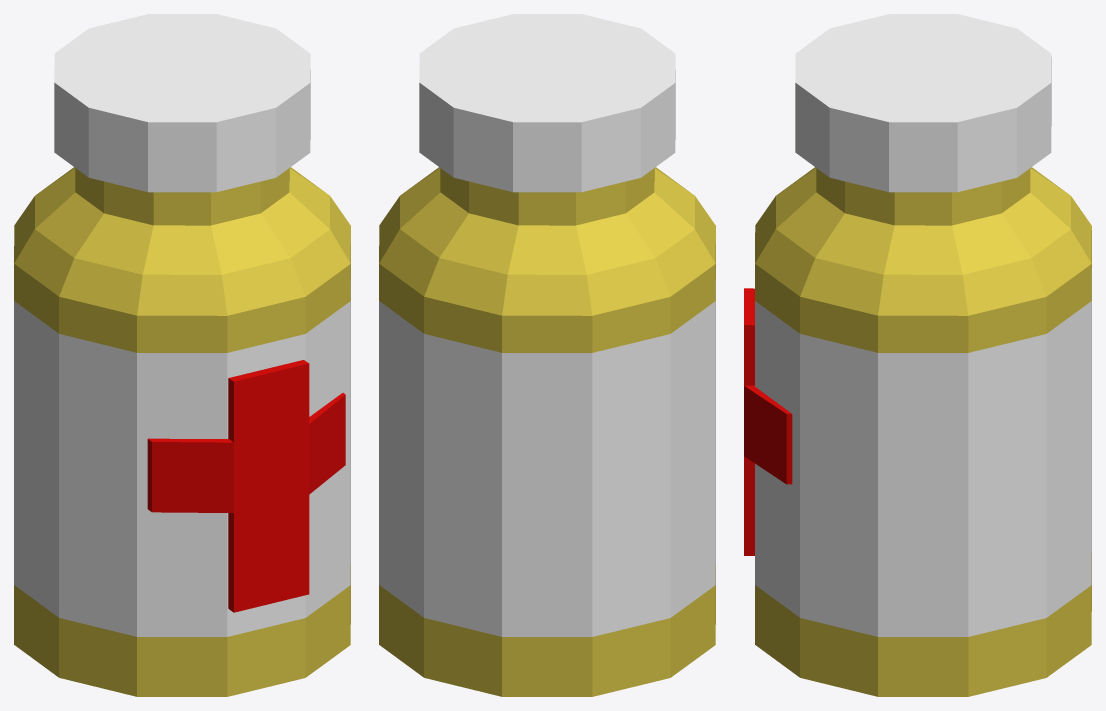
File: Kit.fbx
3 views of the same model, side by side, from view 1: azimuth 30°, elevation 25°; view 2: azimuth 150°, elevation 25°; view 3: azimuth 270°, elevation 25° (orthographic).
Visible parts, largest first — view 1: ITEM1; view 2: ITEM1; view 3: ITEM1.
Boxes of the visible parts, x1,y1,x2,y2 form: ITEM1: (14, 14, 350, 696); ITEM1: (379, 14, 715, 696); ITEM1: (744, 14, 1091, 696).
Size of the model in its own units: 96.01 by 175 by 99.12.
